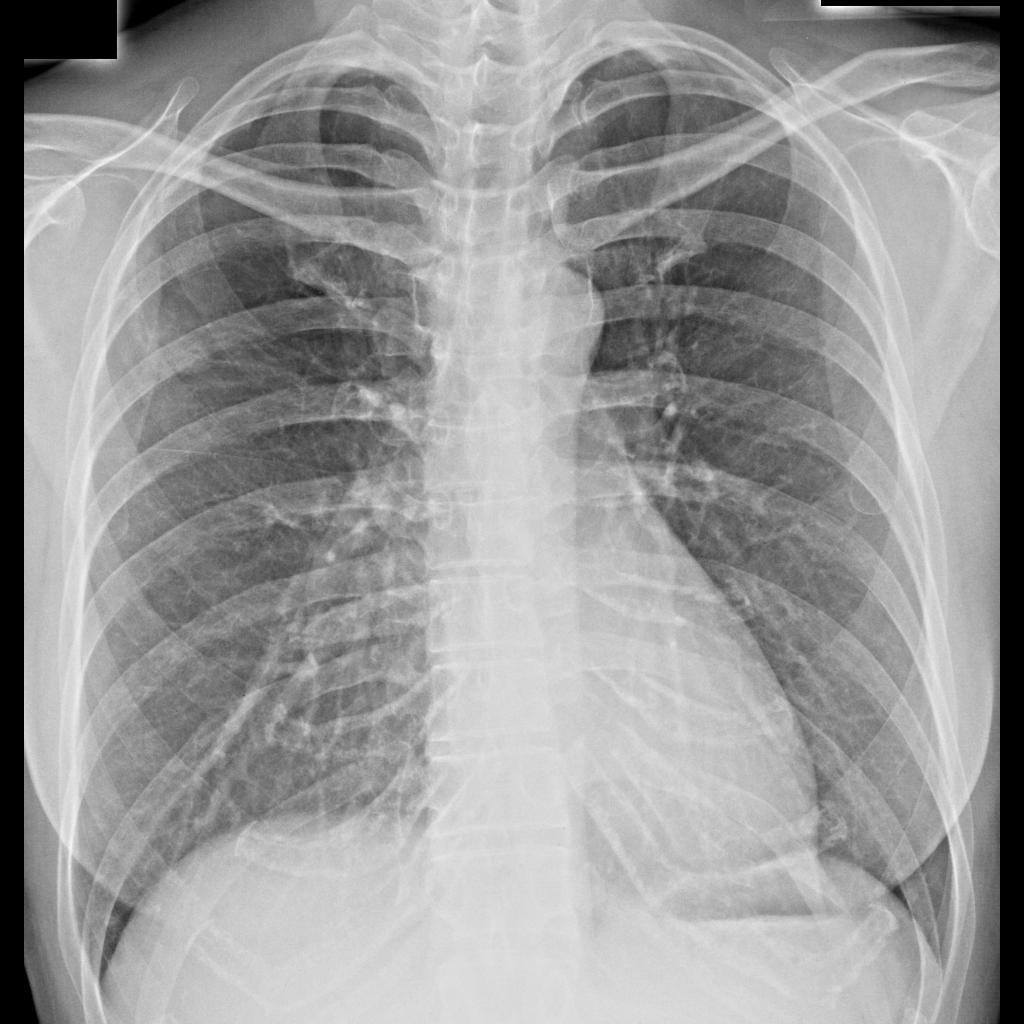Nodule: (154, 322, 223, 391)
